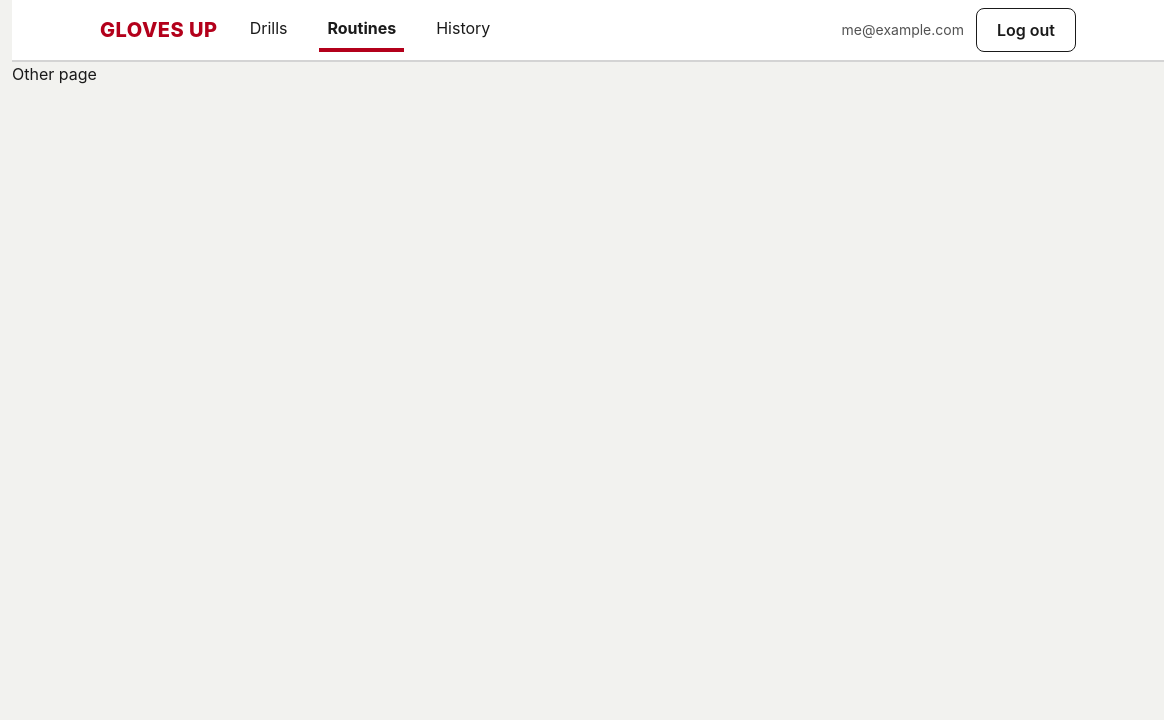
Test: Navbar › shows a message when logging out fails
This screenshot has width=1164, height=720.
Click the button "Log out". click: (1026, 30)
box: [976,8,1076,52]
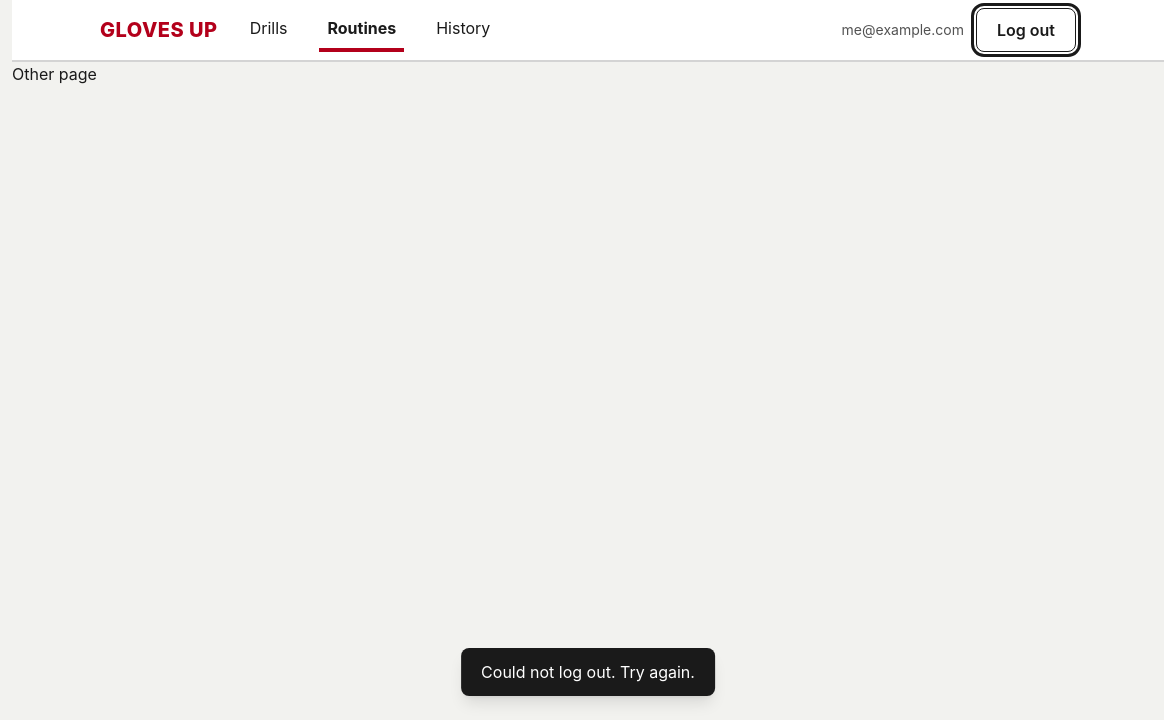
Result: the text "Could not log out. Try again." is shown at [461,648,715,696]
